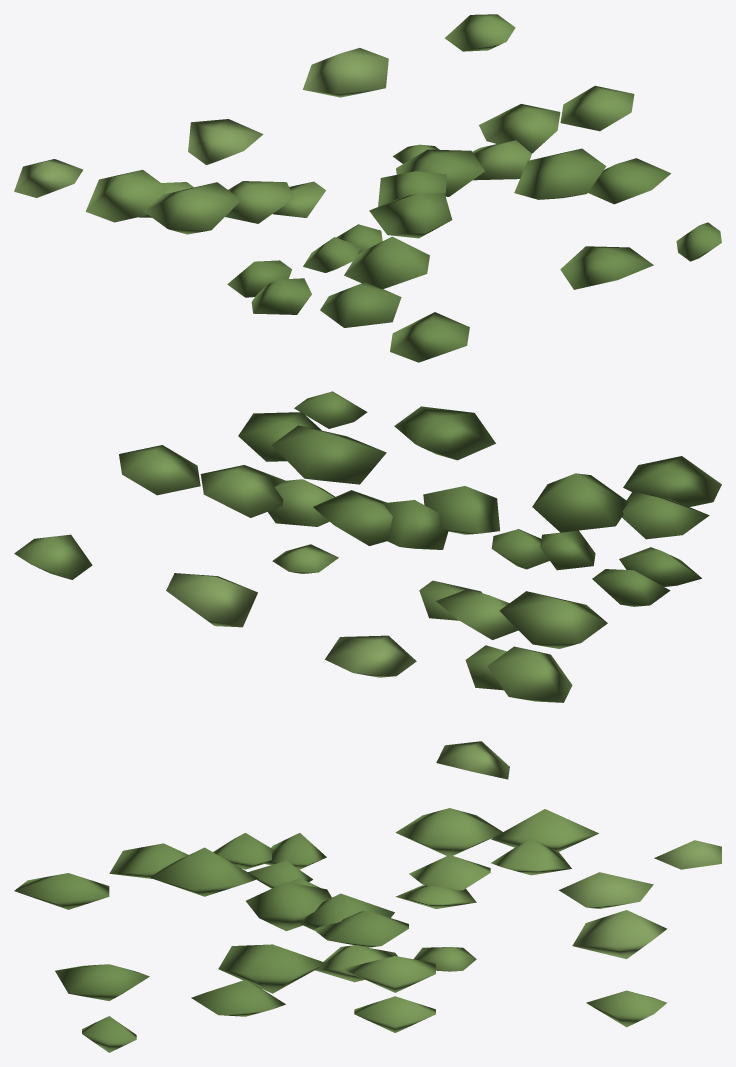
Rendered from canopy-2--1-1.glb.
The picture shows the model from 3 angles, top to bottom: view 1: azimuth 30°, elevation 25°; view 2: azimuth 150°, elevation 25°; view 3: azimuth 270°, elevation 25°; orthographic projection. The views are drawn at different scales.
Bounding box in the file's own units: 115 × 20 × 130.
1 material, 1 textured.
